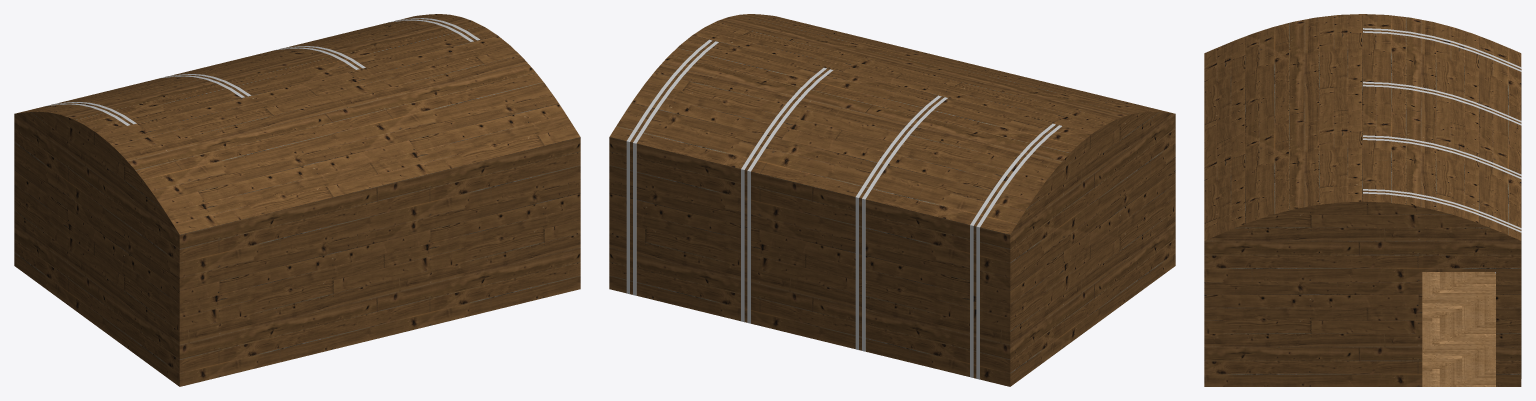
File: 5×7 room.fbx
3 renders of one model, left to right at view 1: azimuth 30°, elevation 25°; view 2: azimuth 150°, elevation 25°; view 3: azimuth 270°, elevation 25°, orthographic. The views are drawn at different scales.
Visible parts, largest first — view 1: Cube.003; view 2: Cube.003; view 3: Cube.003.
Boxes of the visible parts, <box> form: Cube.003: <box>14,14,580,386</box>; Cube.003: <box>609,14,1175,386</box>; Cube.003: <box>1204,14,1521,386</box>.
Size of the model in its own units: 700 by 322 by 500.
